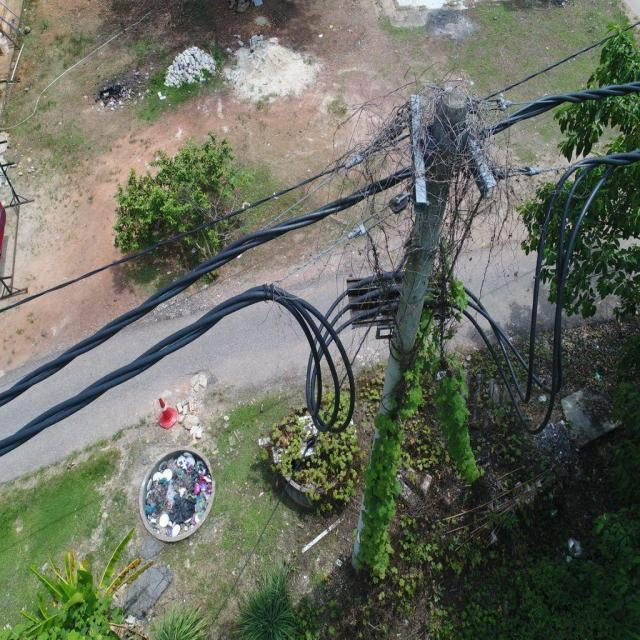critical vegetation: (331, 55, 531, 582)
